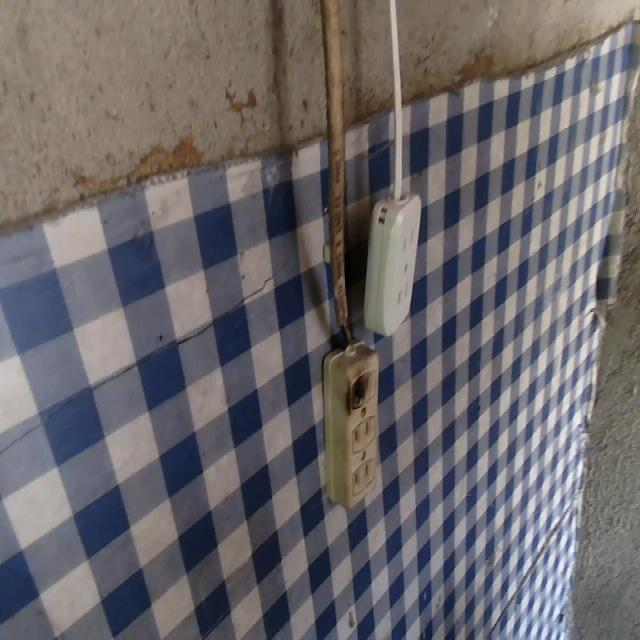-: (342, 366, 371, 418)
